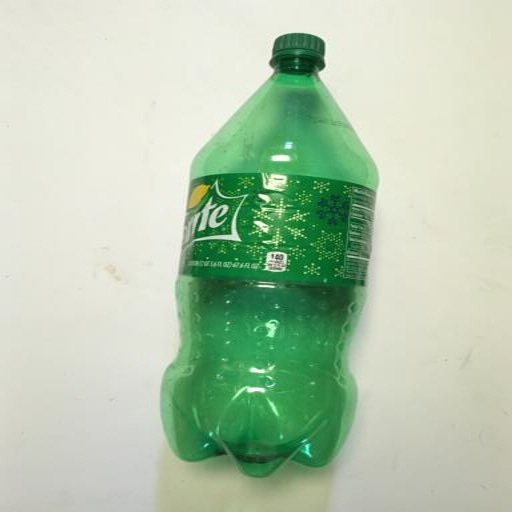Plastic_0: (159, 26, 372, 476)
